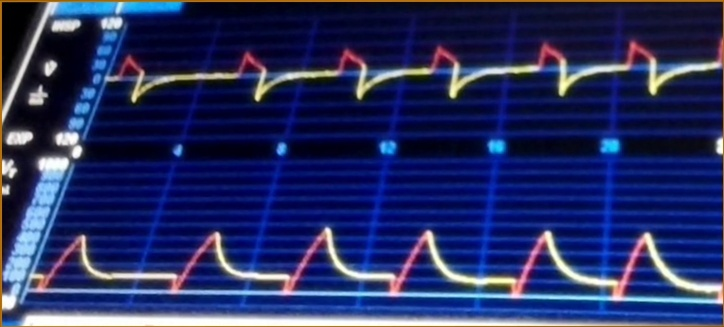Flow: (115, 31, 723, 133)
Leakage Volume: (52, 205, 718, 312)
